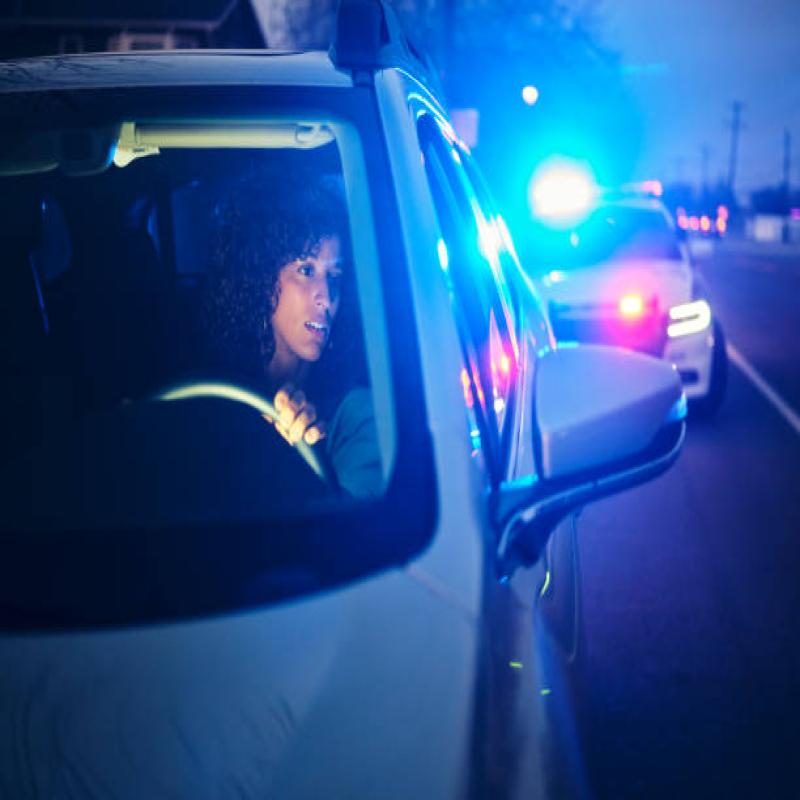AmbulanceSiren: (520, 130, 602, 229)
